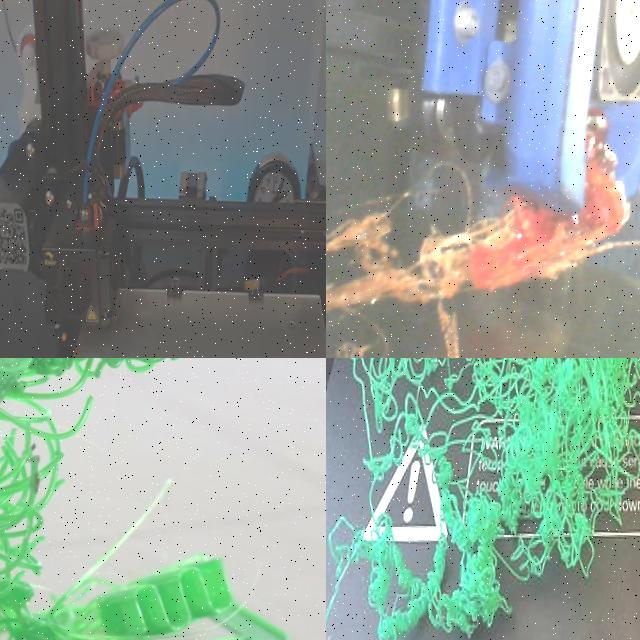spaghetti: (341, 358, 640, 640), (326, 111, 640, 358), (326, 108, 629, 358), (0, 450, 58, 597)
